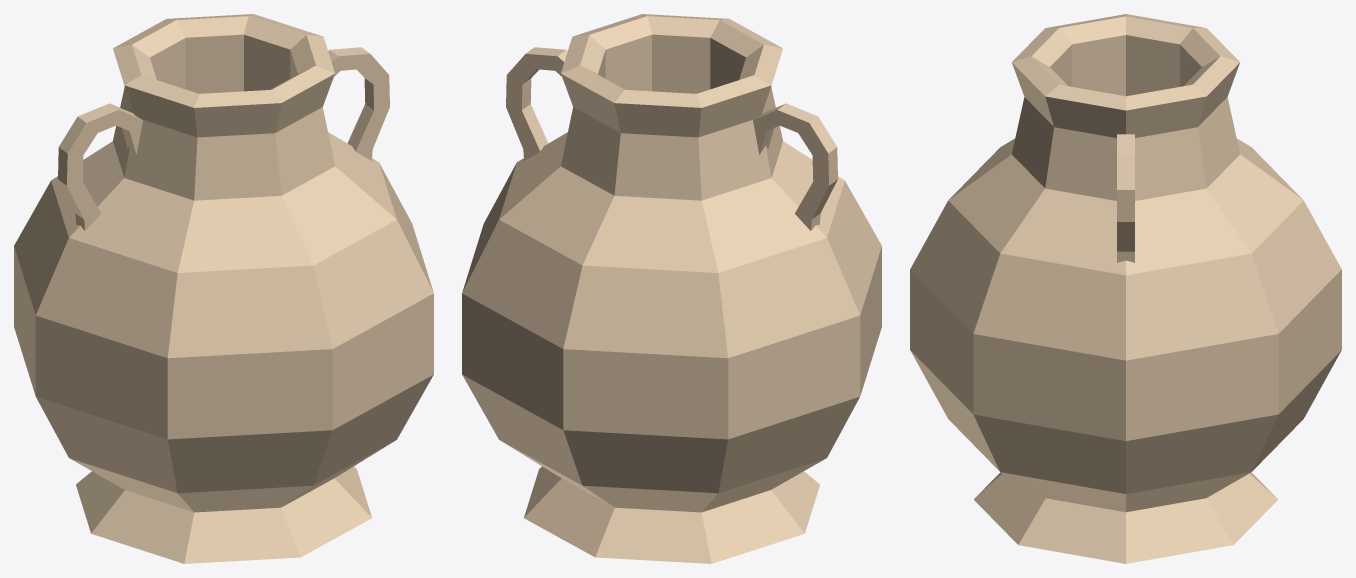
The model's file is Prop_Vase_3.glb.
3 renders of one model, left to right at view 1: azimuth 30°, elevation 25°; view 2: azimuth 150°, elevation 25°; view 3: azimuth 270°, elevation 25°, orthographic.
Parts seen in each view (by area): view 1: Sandstone_5; view 2: Sandstone_5; view 3: Sandstone_5.
Boxes of the visible parts, bbox=[...] form: Sandstone_5: bbox=[14, 14, 433, 563]; Sandstone_5: bbox=[462, 14, 881, 563]; Sandstone_5: bbox=[910, 14, 1341, 563].
Bounding box in the file's own units: 0.425 × 0.4815 × 0.425.
